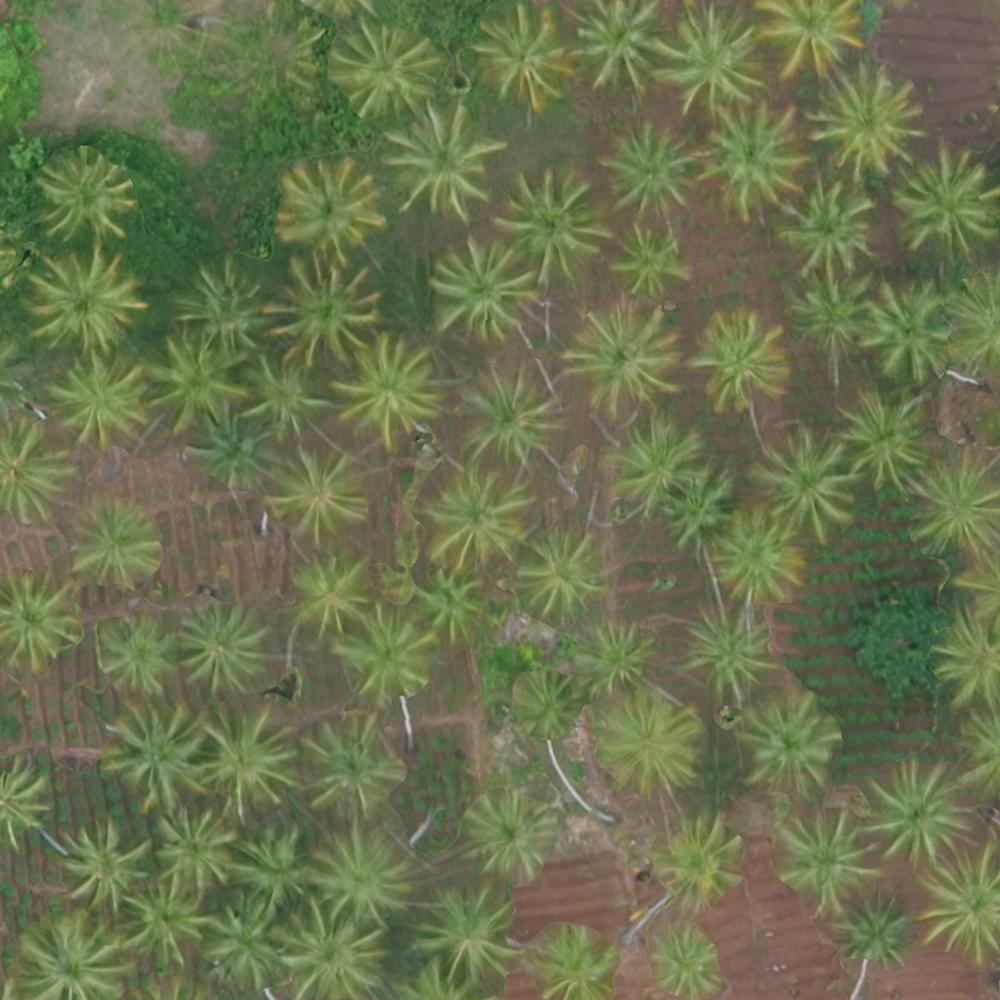Palm: (380, 106, 503, 215), (333, 336, 446, 449), (563, 304, 677, 416), (700, 102, 810, 217), (104, 699, 214, 811), (651, 6, 764, 114), (264, 255, 378, 362), (426, 238, 537, 346), (508, 167, 613, 281), (202, 704, 307, 817), (748, 428, 858, 535), (812, 65, 919, 175), (413, 884, 522, 986), (900, 145, 997, 259), (594, 690, 701, 792), (30, 251, 142, 348), (421, 467, 530, 565), (867, 759, 972, 860), (772, 169, 875, 271), (455, 360, 560, 460), (303, 715, 401, 822), (472, 7, 575, 107), (275, 161, 380, 259), (16, 908, 129, 998), (305, 822, 405, 923), (278, 905, 384, 999), (735, 694, 836, 791), (47, 352, 151, 446), (776, 810, 876, 907), (692, 310, 790, 408), (266, 447, 366, 543), (915, 848, 1000, 960), (603, 417, 700, 515), (331, 21, 434, 112), (912, 449, 1000, 555), (835, 389, 932, 485), (145, 335, 247, 425), (713, 512, 810, 606), (862, 284, 954, 383), (336, 612, 436, 702), (68, 497, 164, 588), (608, 119, 705, 208), (572, 1, 668, 90), (34, 151, 131, 238), (517, 530, 608, 622), (200, 895, 290, 988), (766, 1, 863, 83), (61, 817, 149, 907), (2, 572, 84, 667), (463, 792, 551, 880), (678, 608, 769, 693), (178, 608, 266, 695), (176, 257, 265, 343), (237, 355, 328, 438), (653, 818, 738, 904), (187, 410, 272, 495), (285, 550, 369, 635), (1, 424, 74, 520), (928, 608, 1000, 704), (153, 808, 231, 892), (126, 877, 203, 961), (529, 928, 618, 1000), (661, 468, 741, 547), (95, 616, 177, 692), (788, 274, 867, 352), (410, 569, 490, 646), (838, 892, 916, 968), (576, 619, 658, 691), (609, 224, 687, 297), (232, 828, 304, 905), (649, 924, 720, 993), (510, 671, 582, 739), (1, 761, 58, 844)
